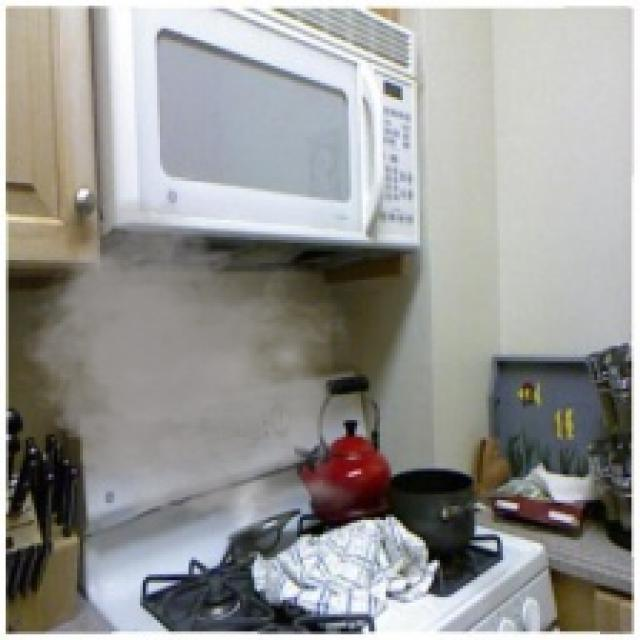Smoke: (11, 185, 368, 540)
